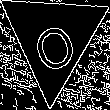O_NW: (26, 6, 81, 72)
